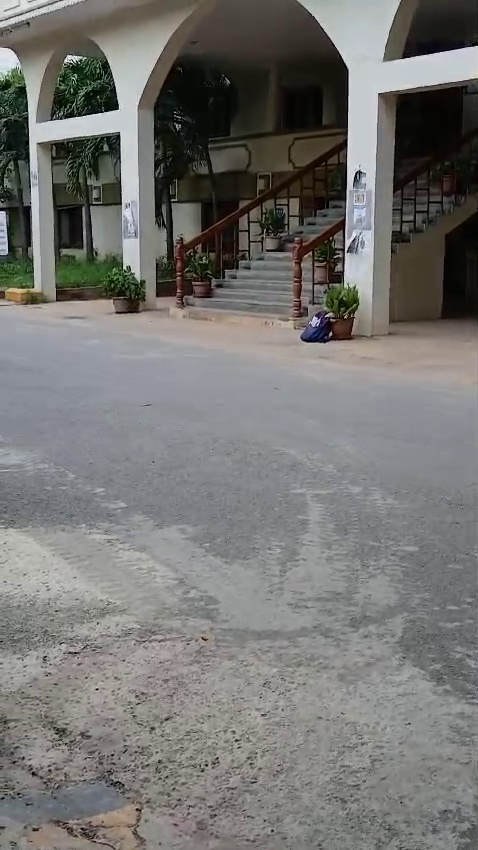bag: (298, 301, 337, 349)
